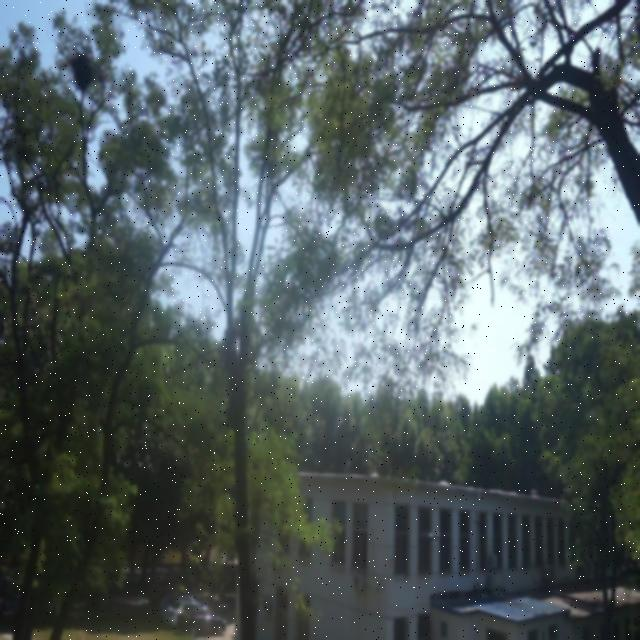UAV: (424, 532, 437, 542)
